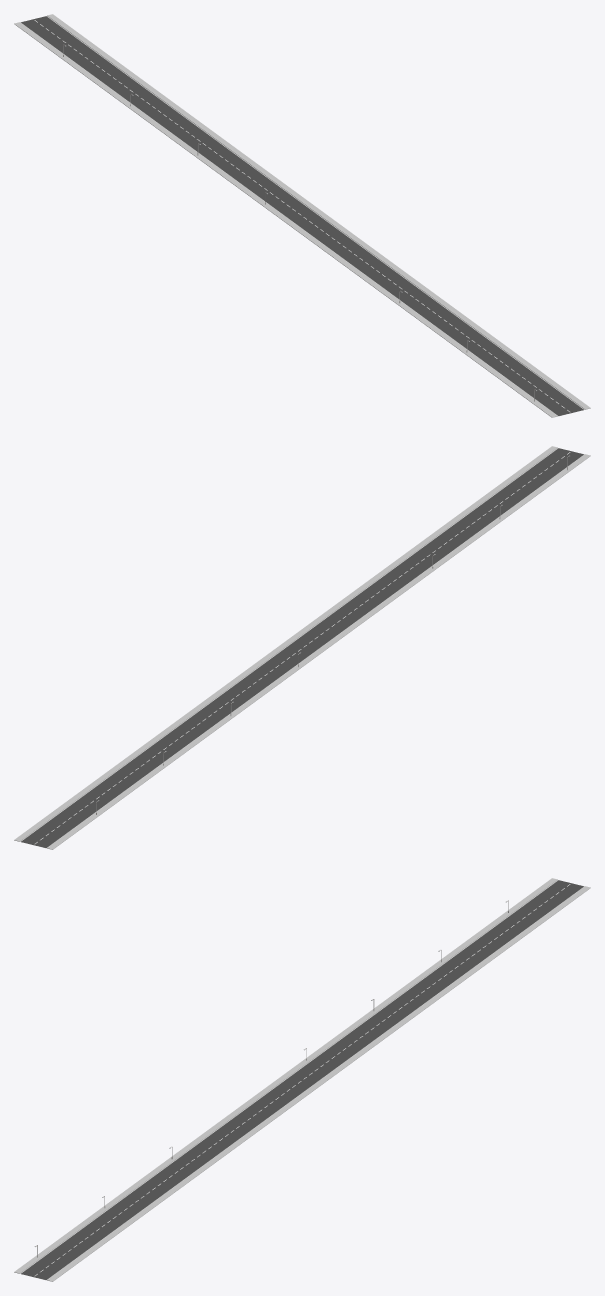
Rendered from road_line.glb.
The picture shows the model from 3 angles, top to bottom: view 1: azimuth 30°, elevation 25°; view 2: azimuth 150°, elevation 25°; view 3: azimuth 330°, elevation 25°; orthographic projection.
Parts seen in each view (by area): view 1: Road Lane_01_Plane.158, Road Lane_01_Plane.060, Road Lane_01_Plane.061, Road Lane_01_Plane.005, Road Lane_01_Plane.225, Road Lane_01_Plane.226, Road Lane_01_Plane.228, Road Lane_01_Plane.006, Road Lane_01_Plane.059, Road Lane_01_Plane.176, Road Lane_01_Plane.003, Road Lane_01_Plane.009 (+12 smaller); view 2: Road Lane_01_Plane.059, Road Lane_01_Plane.170, Road Lane_01_Plane.215, Road Lane_01_Plane.009, Road Lane_01_Plane.177, Road Lane_01_Plane.214, Road Lane_01_Plane.008, Road Lane_01_Plane.228, Road Lane_01_Plane.158, Road Lane_01_Plane.010, Road Lane_01_Plane.061, Road Lane_01_Plane.171 (+12 smaller); view 3: Road Lane_01_Plane.158, Road Lane_01_Plane.060, Road Lane_01_Plane.061, Road Lane_01_Plane.005, Road Lane_01_Plane.225, Road Lane_01_Plane.226, Road Lane_01_Plane.228, Road Lane_01_Plane.006, Road Lane_01_Plane.059, Road Lane_01_Plane.176, Road Lane_01_Plane.003, Road Lane_01_Plane.010 (+12 smaller).
Boxes of the visible parts, box(x1,y1,x2,y2) form: Road Lane_01_Plane.158: box(529, 391, 590, 417); Road Lane_01_Plane.060: box(36, 30, 97, 56); Road Lane_01_Plane.061: box(81, 63, 142, 89); Road Lane_01_Plane.005: box(305, 227, 366, 253); Road Lane_01_Plane.225: box(350, 260, 410, 286); Road Lane_01_Plane.226: box(373, 276, 433, 302); Road Lane_01_Plane.228: box(417, 309, 478, 335); Road Lane_01_Plane.006: box(328, 244, 388, 269); Road Lane_01_Plane.059: box(14, 14, 74, 39); Road Lane_01_Plane.176: box(148, 112, 209, 138); Road Lane_01_Plane.003: box(260, 194, 321, 220); Road Lane_01_Plane.009: box(462, 342, 523, 368); Road Lane_01_Plane.059: box(14, 823, 75, 849); Road Lane_01_Plane.170: box(507, 462, 568, 488); Road Lane_01_Plane.215: box(238, 659, 299, 685); Road Lane_01_Plane.009: box(462, 495, 523, 521); Road Lane_01_Plane.177: box(171, 708, 231, 734); Road Lane_01_Plane.214: box(216, 676, 276, 701); Road Lane_01_Plane.008: box(194, 692, 254, 718); Road Lane_01_Plane.228: box(418, 528, 478, 554); Road Lane_01_Plane.158: box(530, 446, 590, 471); Road Lane_01_Plane.010: box(126, 741, 187, 767); Road Lane_01_Plane.061: box(81, 774, 142, 800); Road Lane_01_Plane.171: box(485, 479, 545, 504); Road Lane_01_Plane.158: box(14, 1255, 75, 1281); Road Lane_01_Plane.060: box(507, 894, 568, 920); Road Lane_01_Plane.061: box(462, 927, 523, 953); Road Lane_01_Plane.005: box(238, 1091, 299, 1117); Road Lane_01_Plane.225: box(194, 1124, 254, 1150); Road Lane_01_Plane.226: box(171, 1140, 231, 1166); Road Lane_01_Plane.228: box(126, 1173, 187, 1199); Road Lane_01_Plane.006: box(216, 1108, 276, 1133); Road Lane_01_Plane.059: box(530, 878, 590, 903); Road Lane_01_Plane.176: box(395, 976, 456, 1002); Road Lane_01_Plane.003: box(283, 1058, 344, 1084); Road Lane_01_Plane.010: box(418, 960, 478, 986).
Bounding box in the file's own units: 20 × 6.43 × 480.
12 materials, 12 textured.
